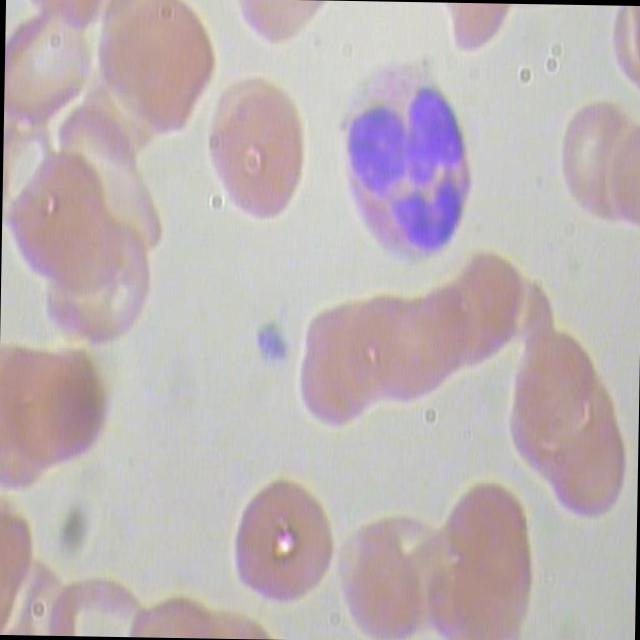Platelets: (249, 316, 294, 366)
RBC: (92, 0, 219, 149), (194, 82, 314, 228), (220, 467, 340, 612), (2, 141, 116, 291), (334, 501, 433, 640), (505, 332, 597, 448), (440, 481, 536, 592), (28, 353, 114, 472), (451, 249, 536, 368), (550, 104, 635, 222), (544, 409, 628, 528), (292, 333, 378, 442)
WBC: (332, 62, 488, 268)
